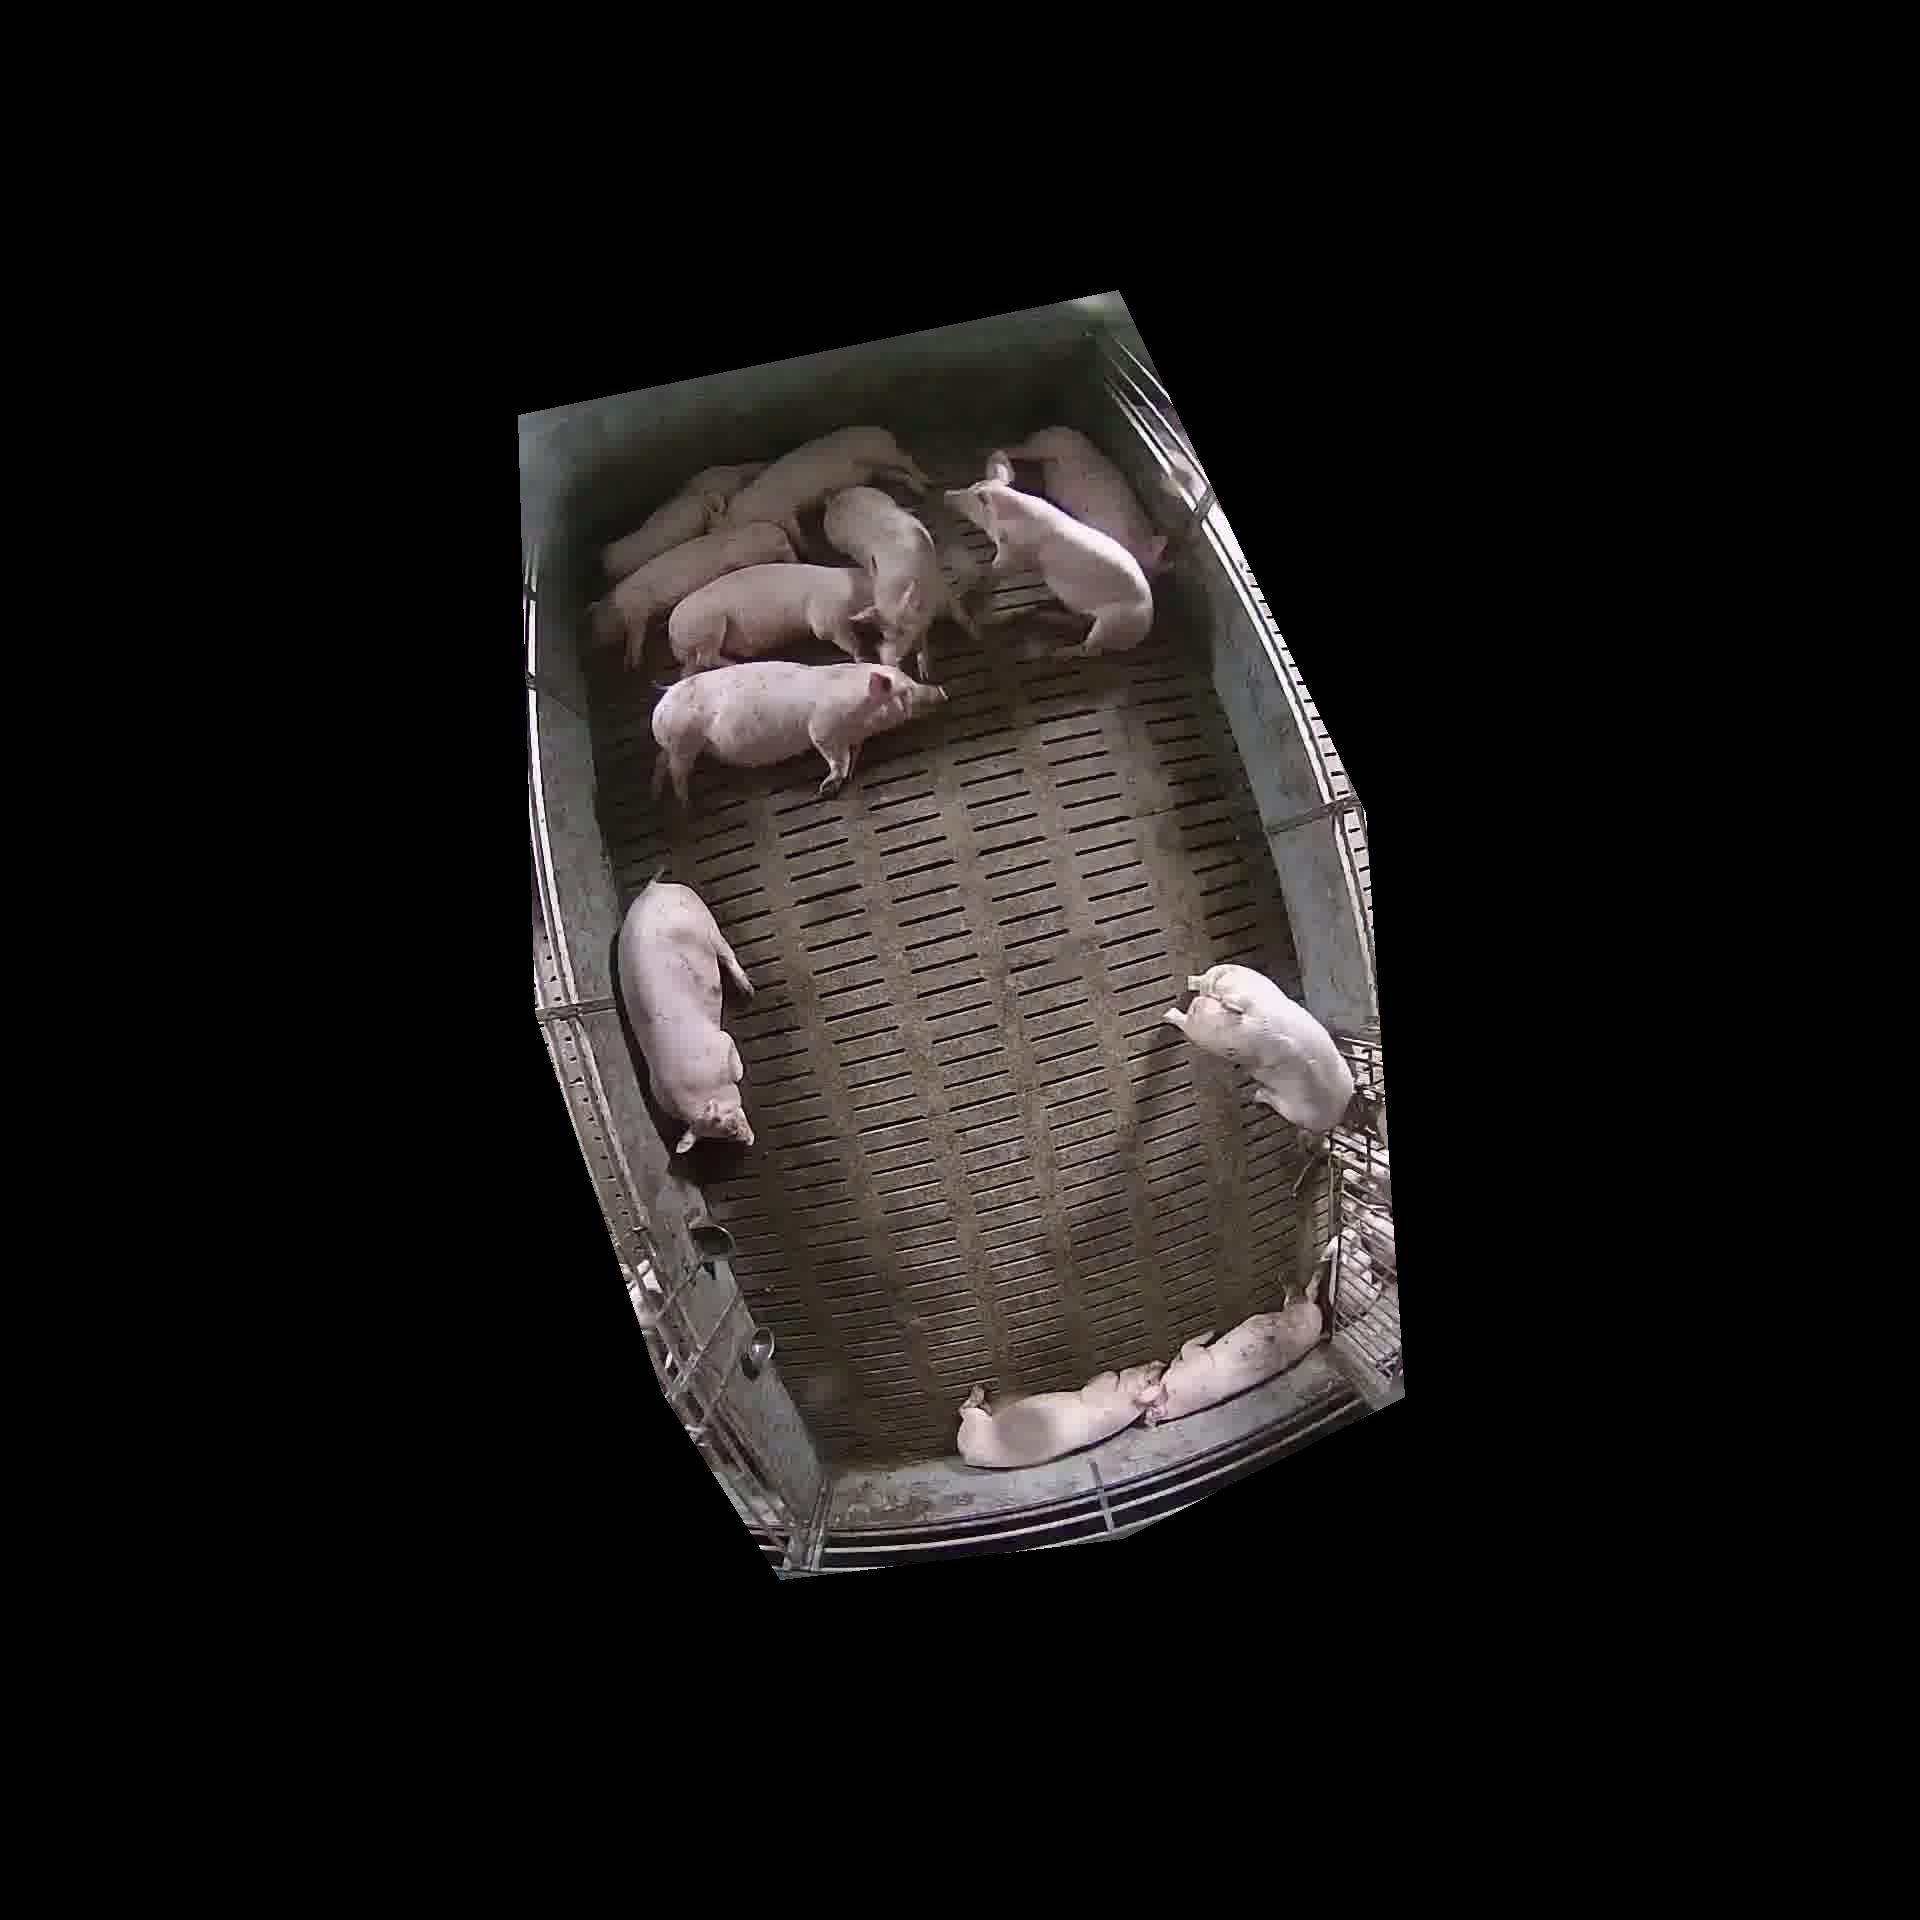pig: (944, 452, 1152, 656), (652, 661, 944, 802), (617, 879, 753, 1152), (1166, 964, 1354, 1132), (589, 522, 795, 666), (823, 489, 960, 677), (717, 425, 927, 549), (1007, 425, 1166, 577), (1145, 1291, 1322, 1422), (668, 563, 870, 675), (956, 1363, 1162, 1466), (600, 464, 761, 582)
